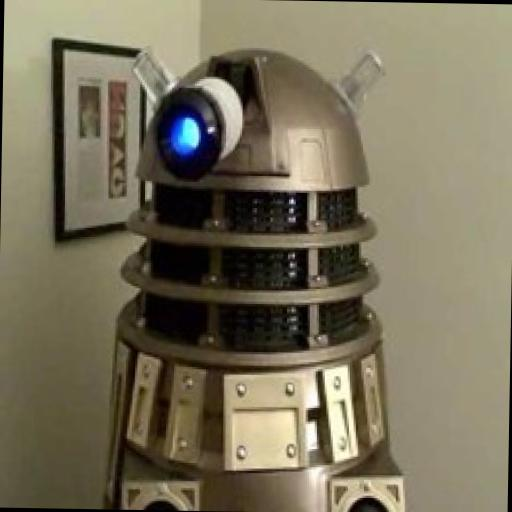dalek: (110, 43, 424, 512)
